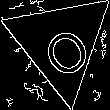O_NW: (29, 10, 92, 77)
